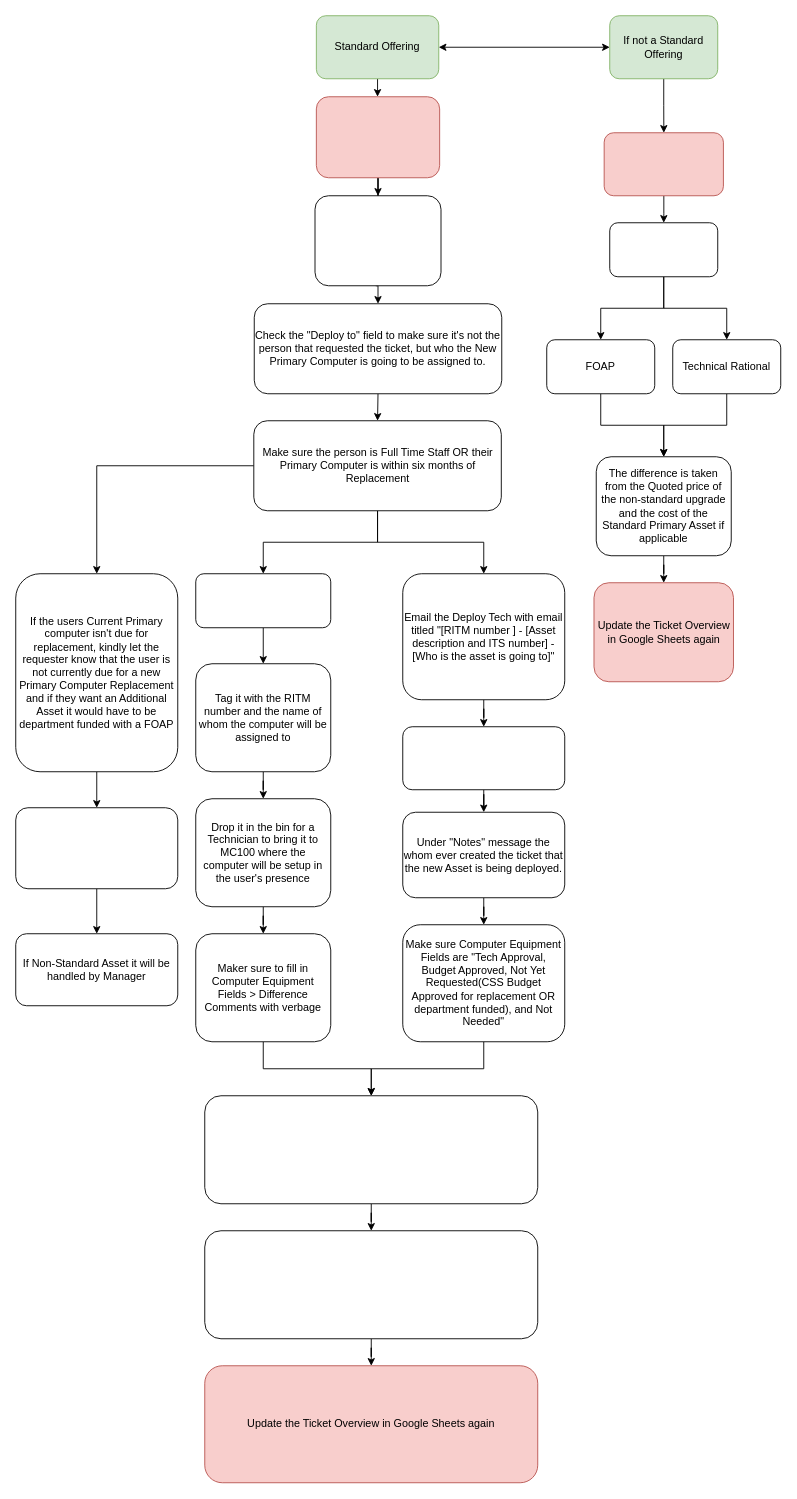
This 797x1499 diagram has some shape labels left out. Here are the shapes that lost their labels. From the top down, the centre of each, then its label:
point (377, 137): Update the Ticket Overview in Google Sheet! !!!!!(This is checked by management)
point (663, 164): Update the Ticket Overview in Google Sheets
point (377, 240): Check if the ticket was requested on behalf of someone else
point (663, 249): Escalate to get a quote
point (263, 600): Pull the Standard Computer
point (483, 758): Document the emails in the "Work Notes"
point (96, 848): If a FOAP is present for a Standard Offering proceed to pull the New Asset
point (371, 1149): Complete Tasks up to the Deploy Tech
point (371, 1284): Update the Asset and the CI for the asset
